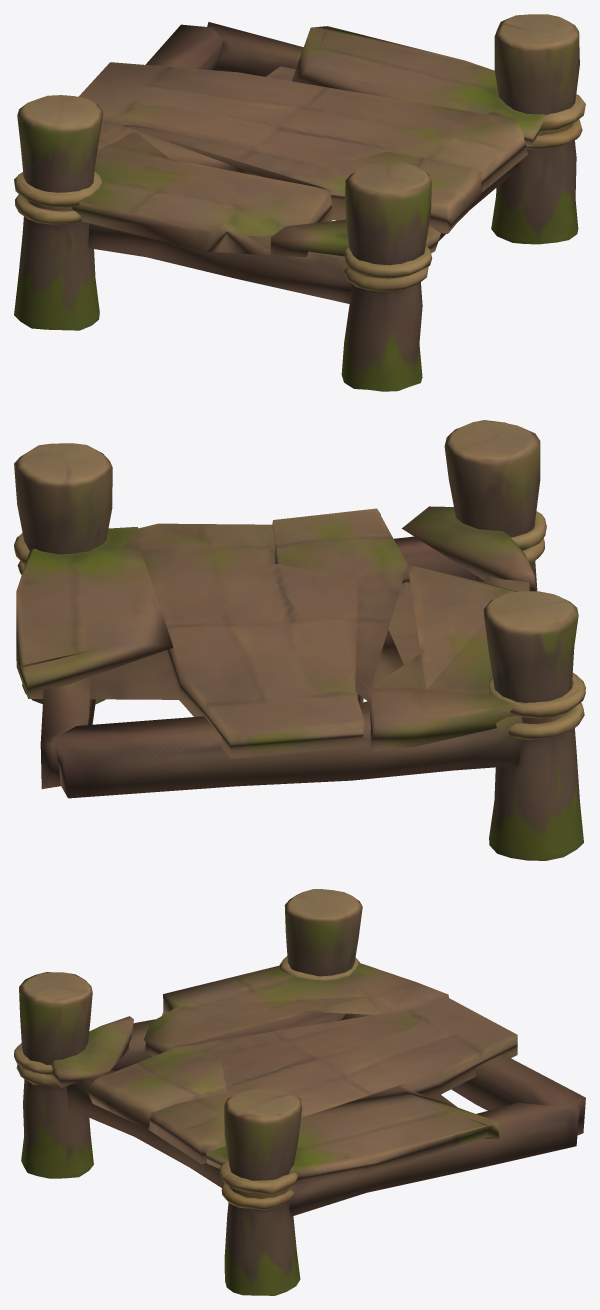
Rendered from muelle.glb.
The picture shows the model from 3 angles, top to bottom: view 1: azimuth 30°, elevation 25°; view 2: azimuth 150°, elevation 25°; view 3: azimuth 270°, elevation 25°; orthographic projection. The views are drawn at different scales.
Parts seen in each view (by area): view 1: muelle; view 2: muelle; view 3: muelle.
Part boxes in pixels (bbox=[...]): muelle: bbox=[14, 14, 585, 391]; muelle: bbox=[14, 420, 585, 860]; muelle: bbox=[14, 889, 585, 1295].
Size of the model in its own units: 0.3986 by 0.1489 by 0.415.
Materials: 1 (1 with a texture image).
